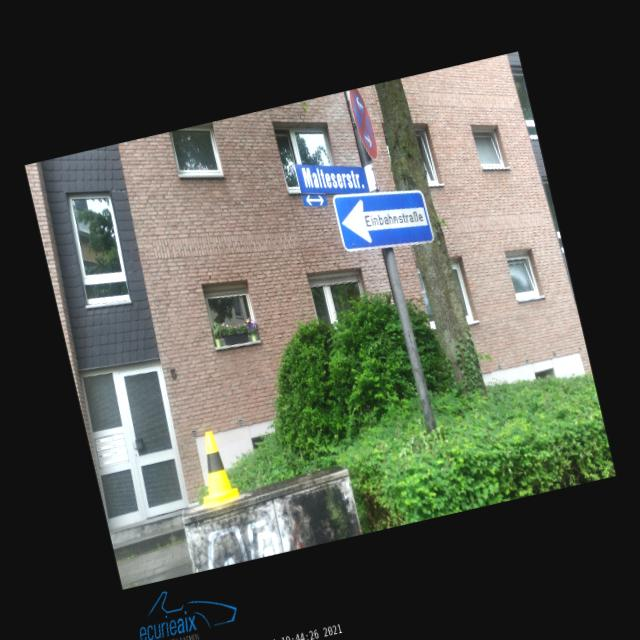yellow_cone: (189, 429, 240, 505)
